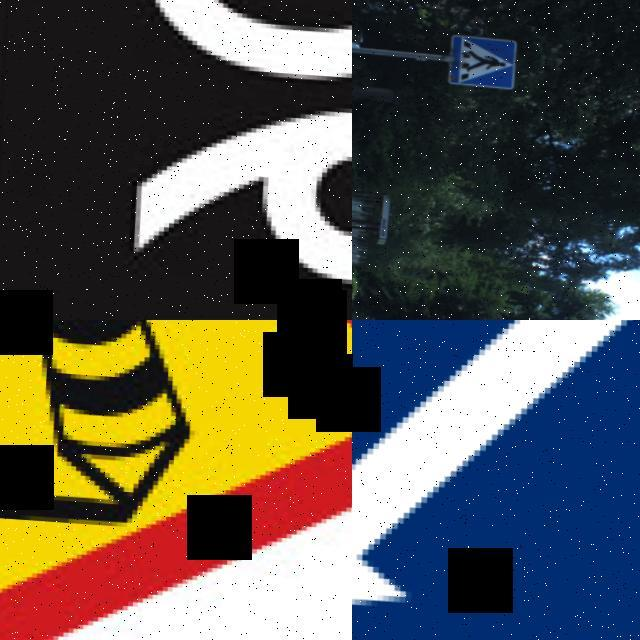100: (0, 0, 352, 320)
155: (0, 320, 352, 640)
180: (440, 29, 522, 92)
Keep left: (352, 320, 640, 640)
